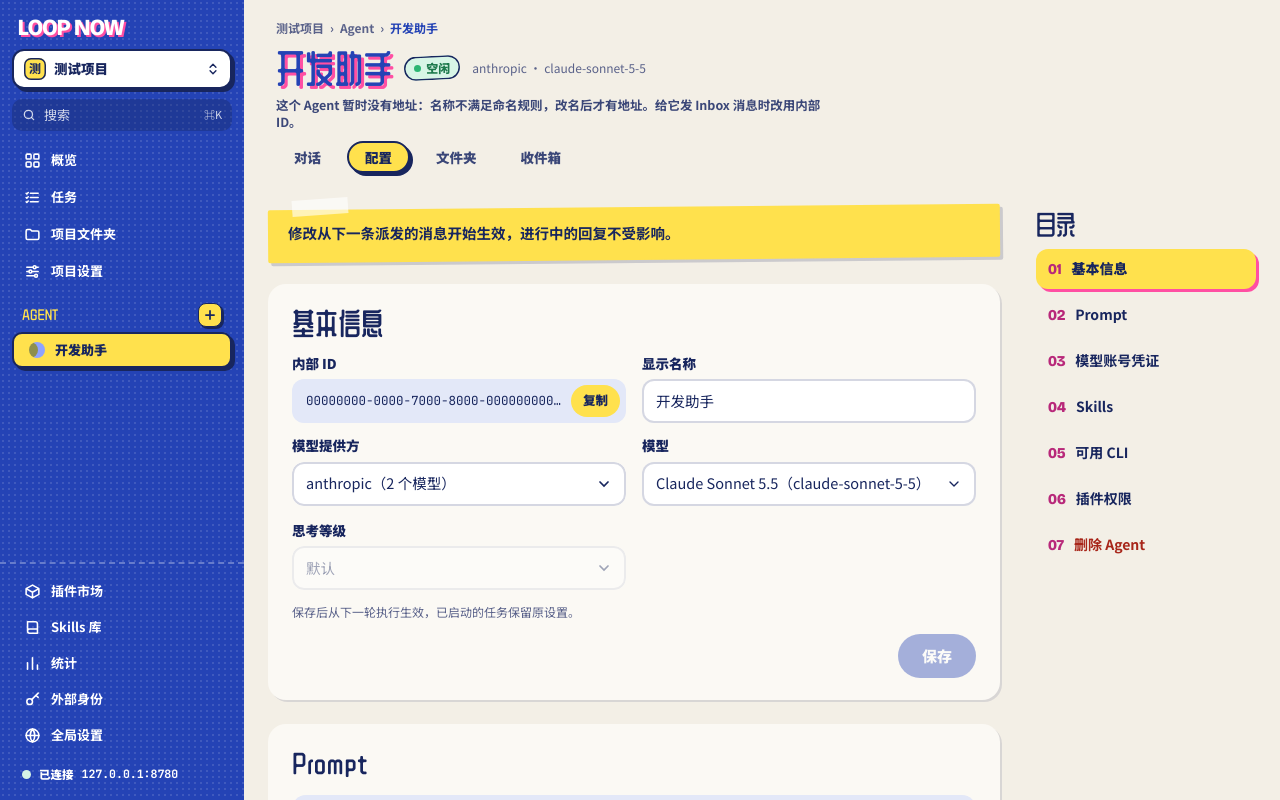
跟随服务端刷新 › 有本地改动时保留人的编辑并提示，保存只提交改过的项
Expected: the element "基本信息" is shown, x1=268 y1=284 x2=1000 y2=700
Replace the text in the field labelled "显示名称" with "我的名字" at (809, 401), box x1=642 y1=379 x2=976 y2=423
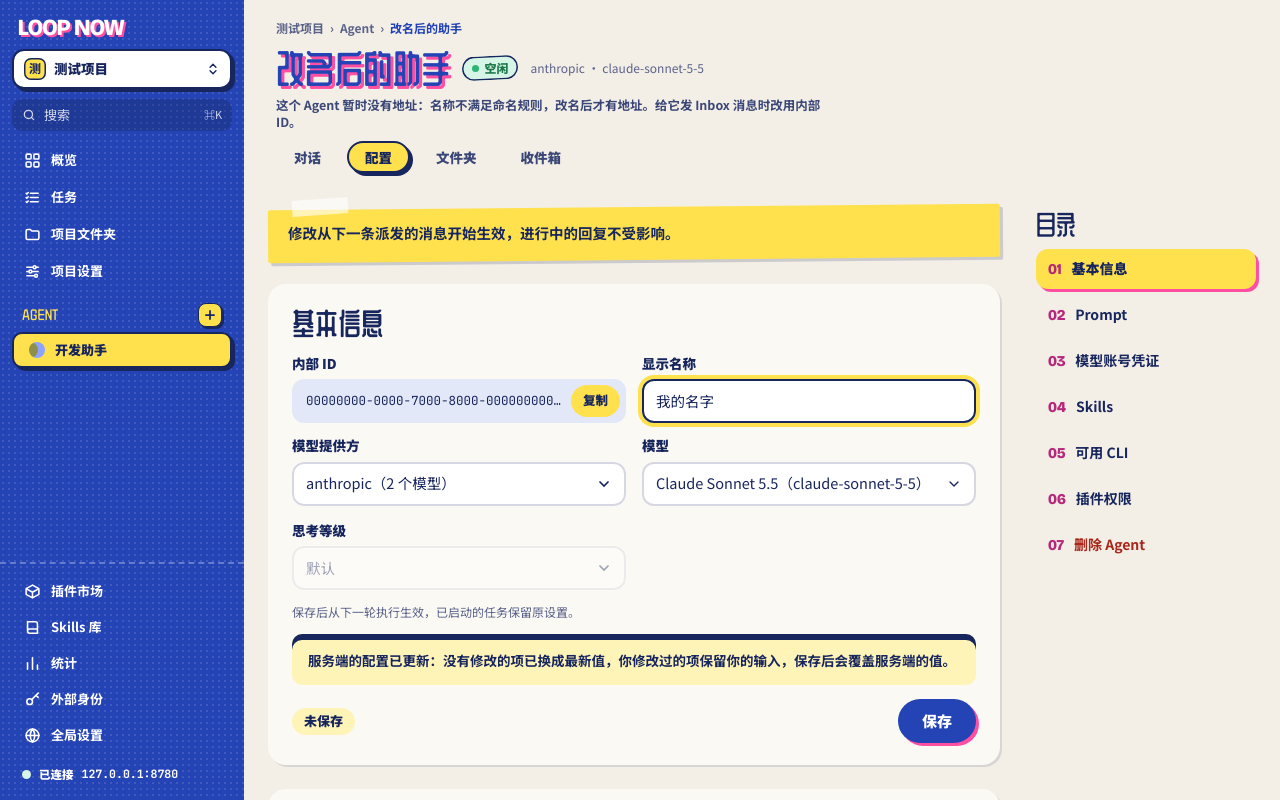
Expected: the text "服务端的配置已更新：没有修改的项已换成最新值，你修改过的项保留你的输入，保存后会覆盖服务端的值。" is shown, x1=308 y1=650 x2=960 y2=673
Click the button "保存" at (937, 721), box x1=898 y1=699 x2=976 y2=743
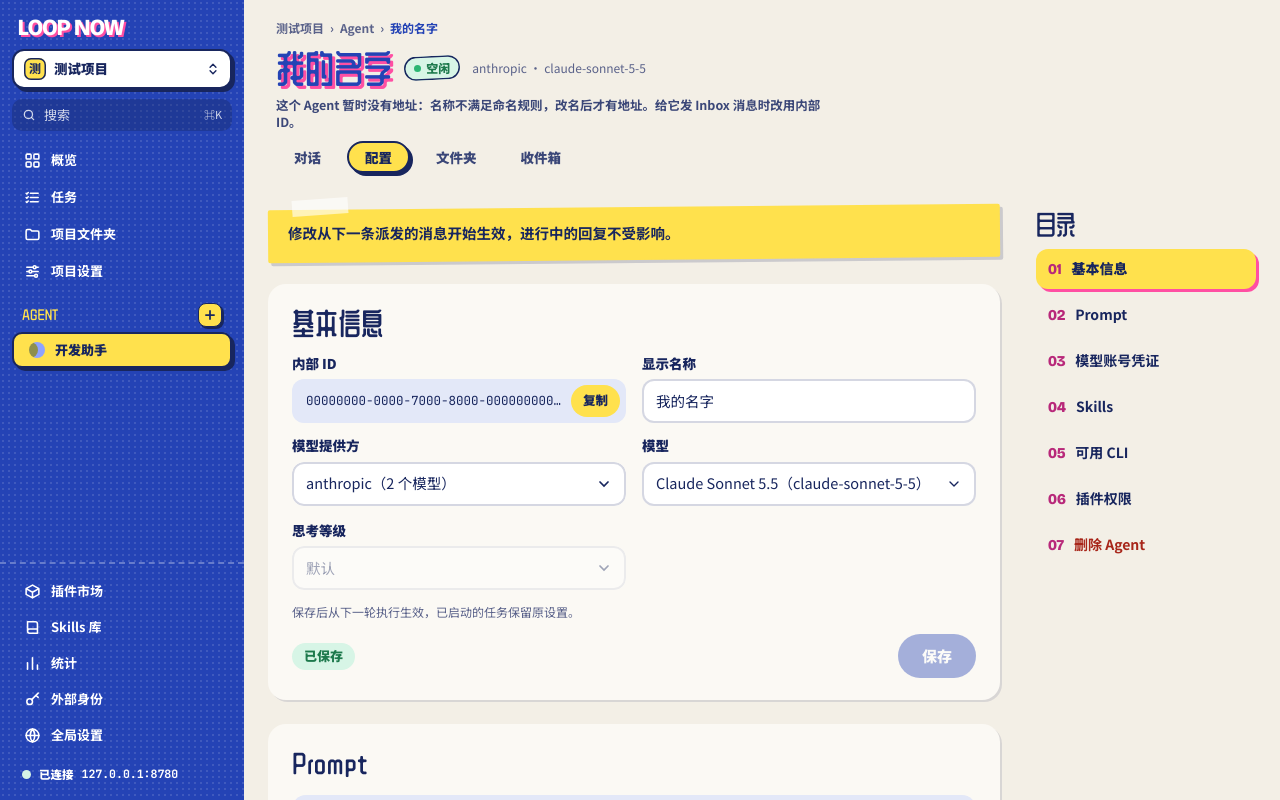
Expected: the text "服务端的配置已更新" is gone
Expected: the button "保存" is disabled, x1=898 y1=634 x2=976 y2=678
